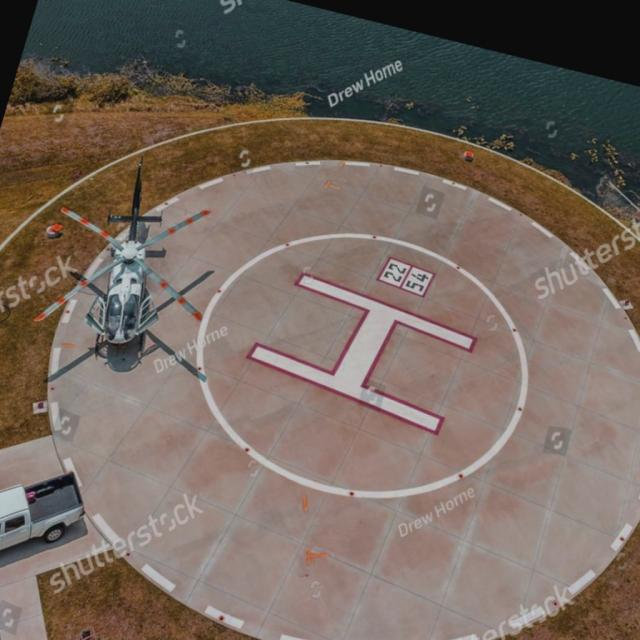helipad: (187, 225, 534, 504)
